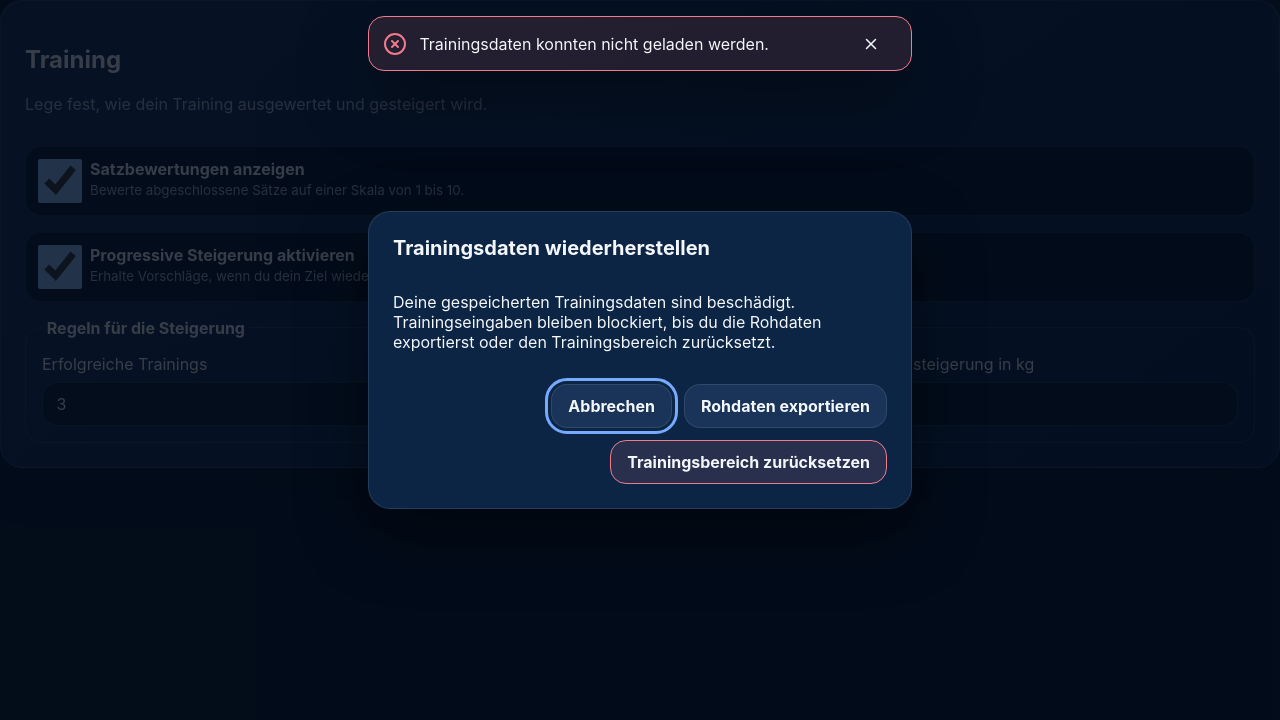
it: TrainingRecoveryDialog › keeps cancelled corruption recovery reachable while mutations remain blocked
The image size is (1280, 720).
What coordinates should you click on to do the following:
click the button "Abbrechen"
I would click on:
 (612, 406)
Its box is [551,384,672,428].
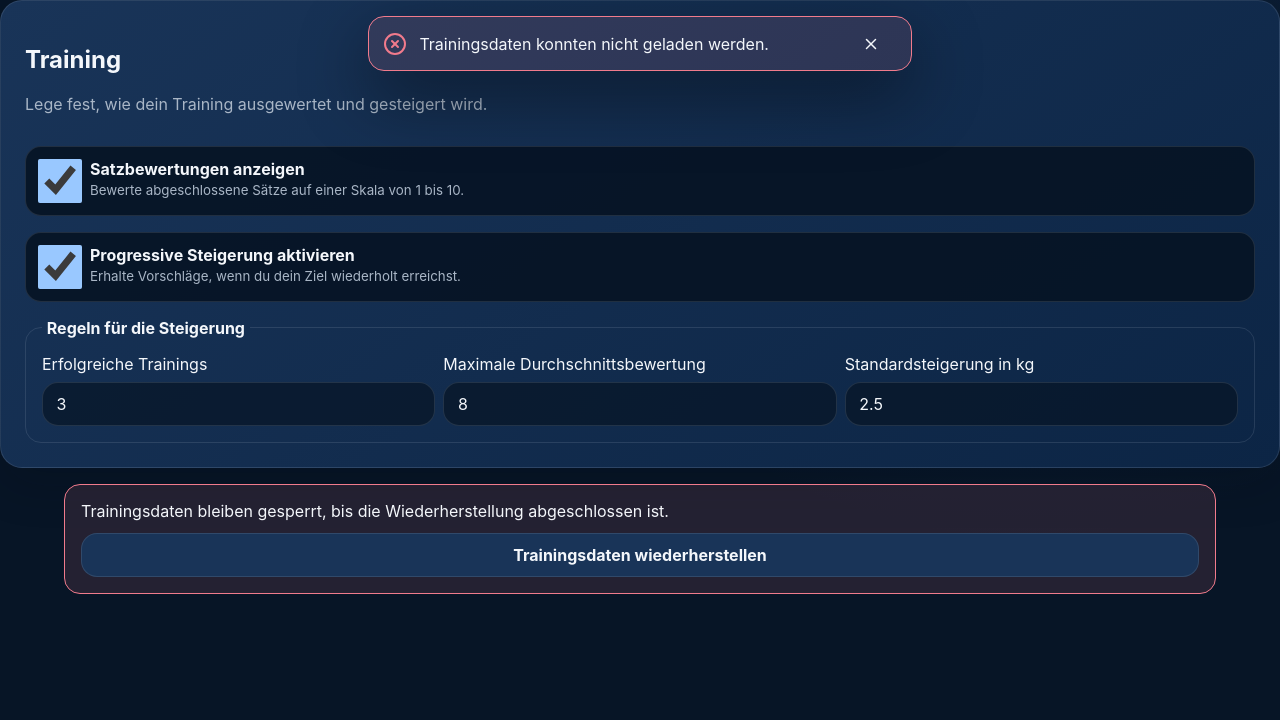
What coordinates should you click on to do the following:
click the checkbox labelled "Satzbewertungen anzeigen"
I would click on:
 (60, 181)
Its box is [38,159,82,203].
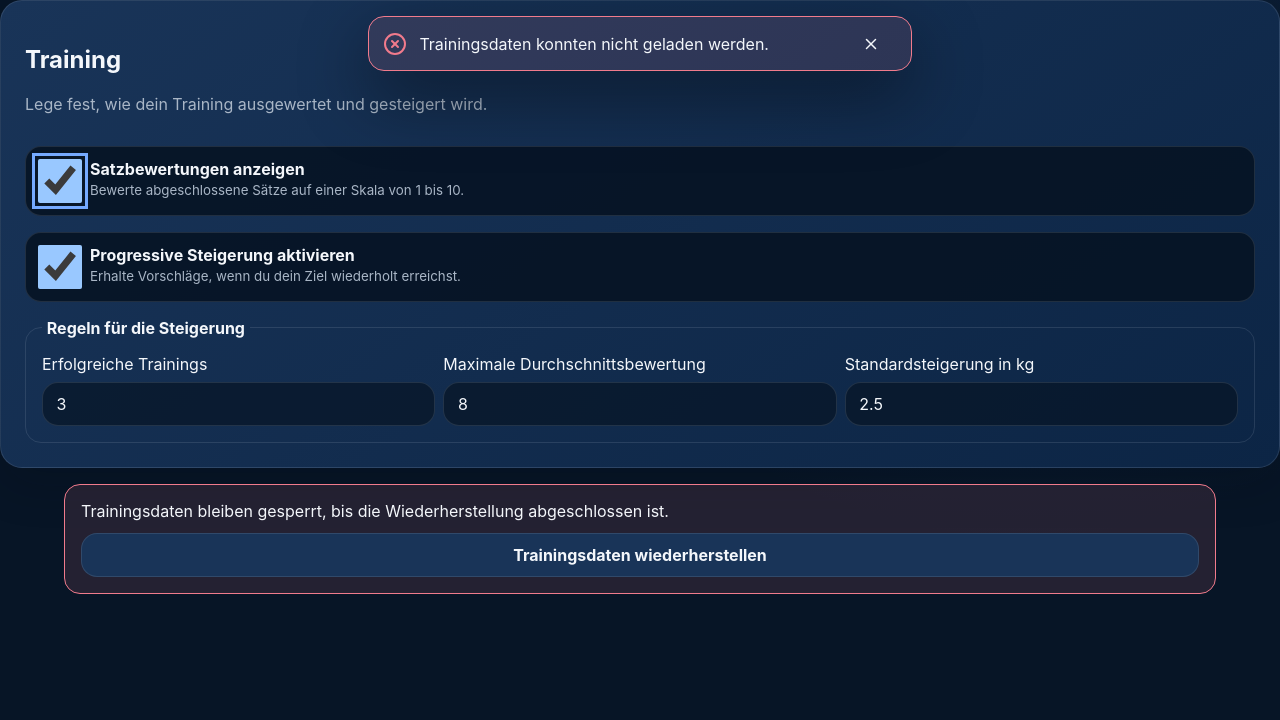
What coordinates should you click on to do the following:
click the button "Trainingsdaten wiederherstellen"
I would click on:
 (640, 555)
Its box is [81,533,1199,577].
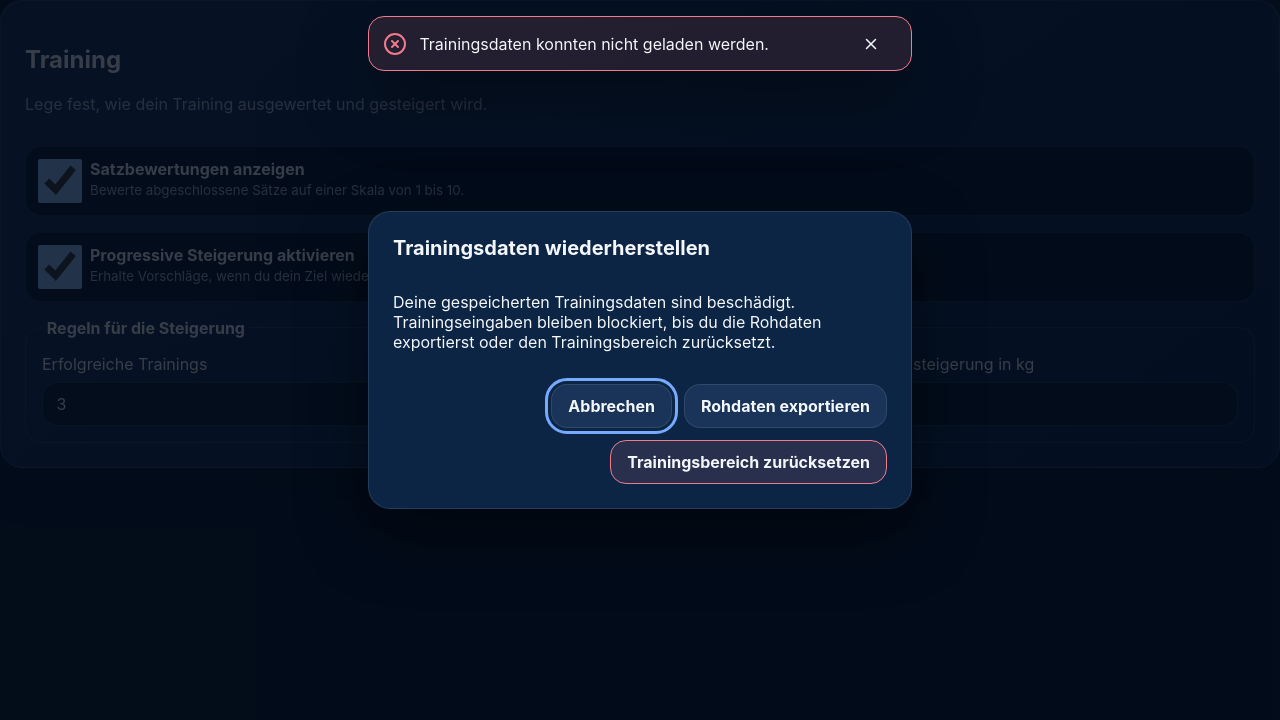
Result: the dialog "Trainingsdaten wiederherstellen" is shown at [368,211,912,509]
